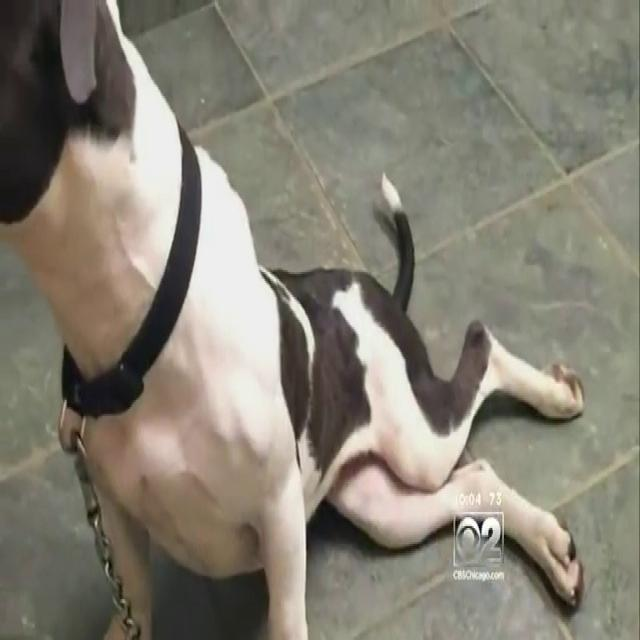normal_animals: (3, 3, 590, 633)
